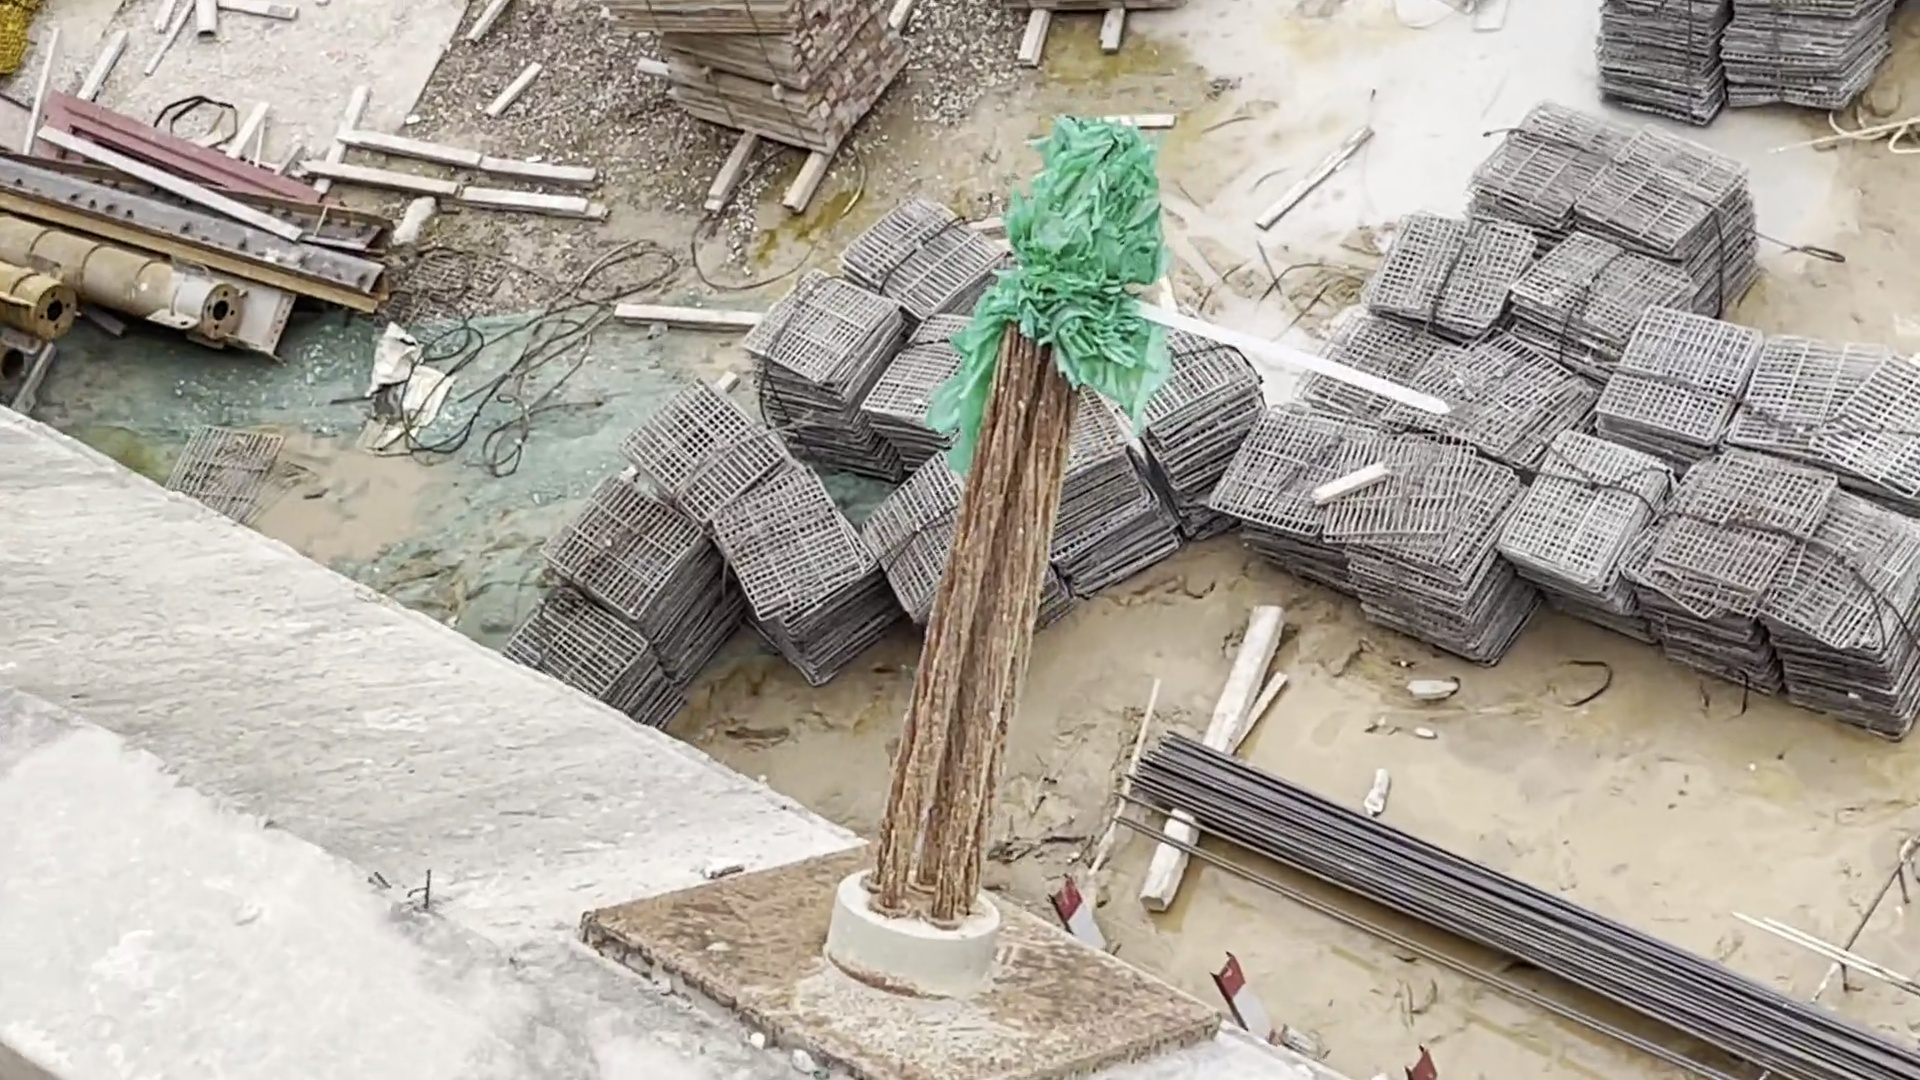rebar: (1124, 727, 1920, 1080)
wood: (636, 1, 909, 153)
